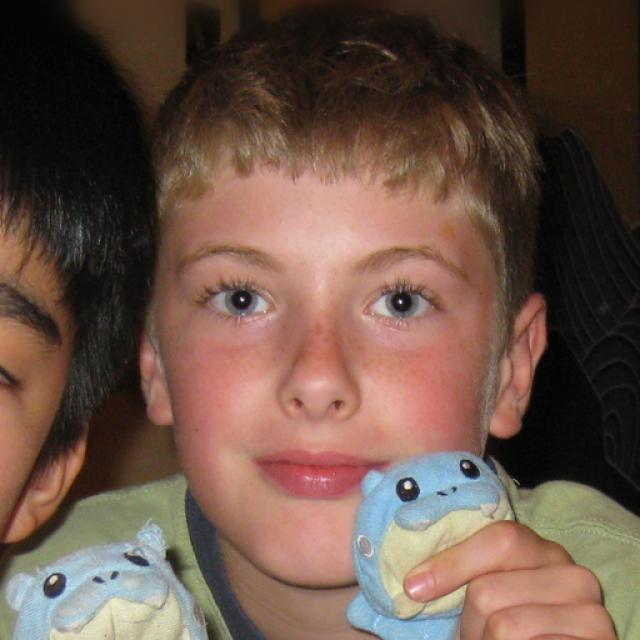neutral: (159, 140, 492, 590)
